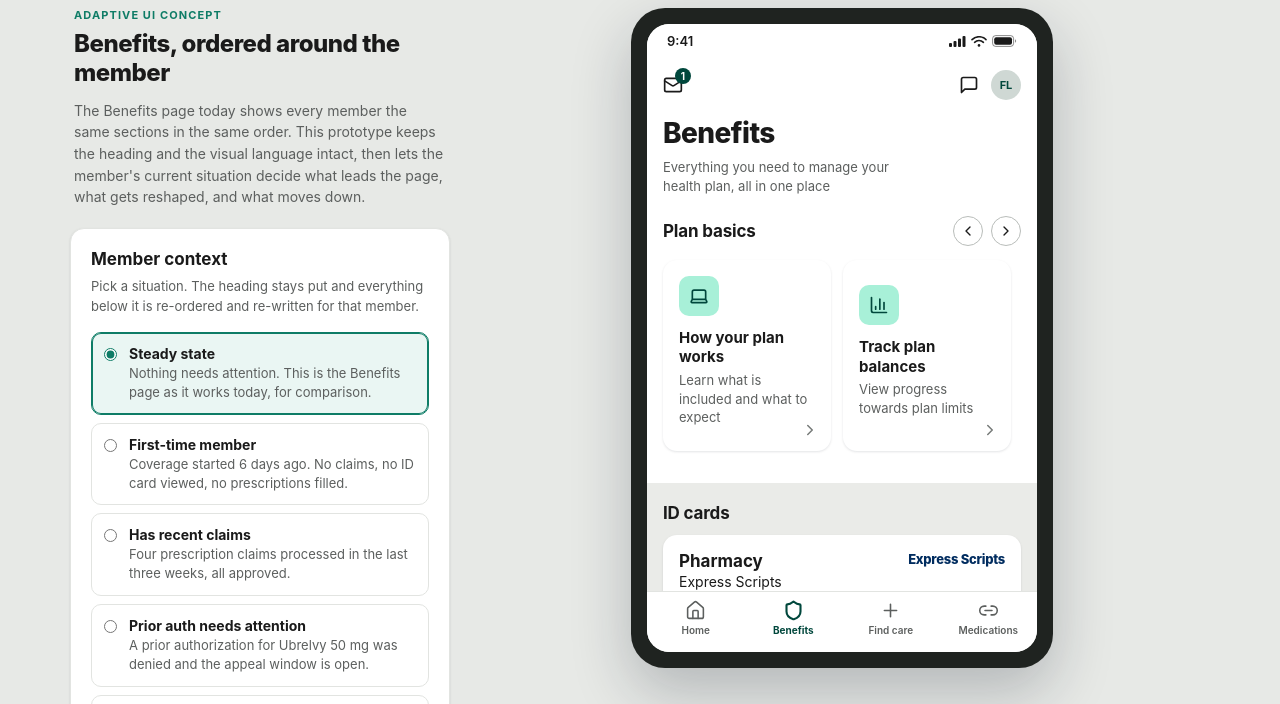
Test: sub-pages › shows the plan stages and the included-with-benefits panels
The width and height of the screenshot is (1280, 704).
Click the button "How your plan works": click(747, 355) left=663, top=260, right=831, bottom=451
(page scrolled)
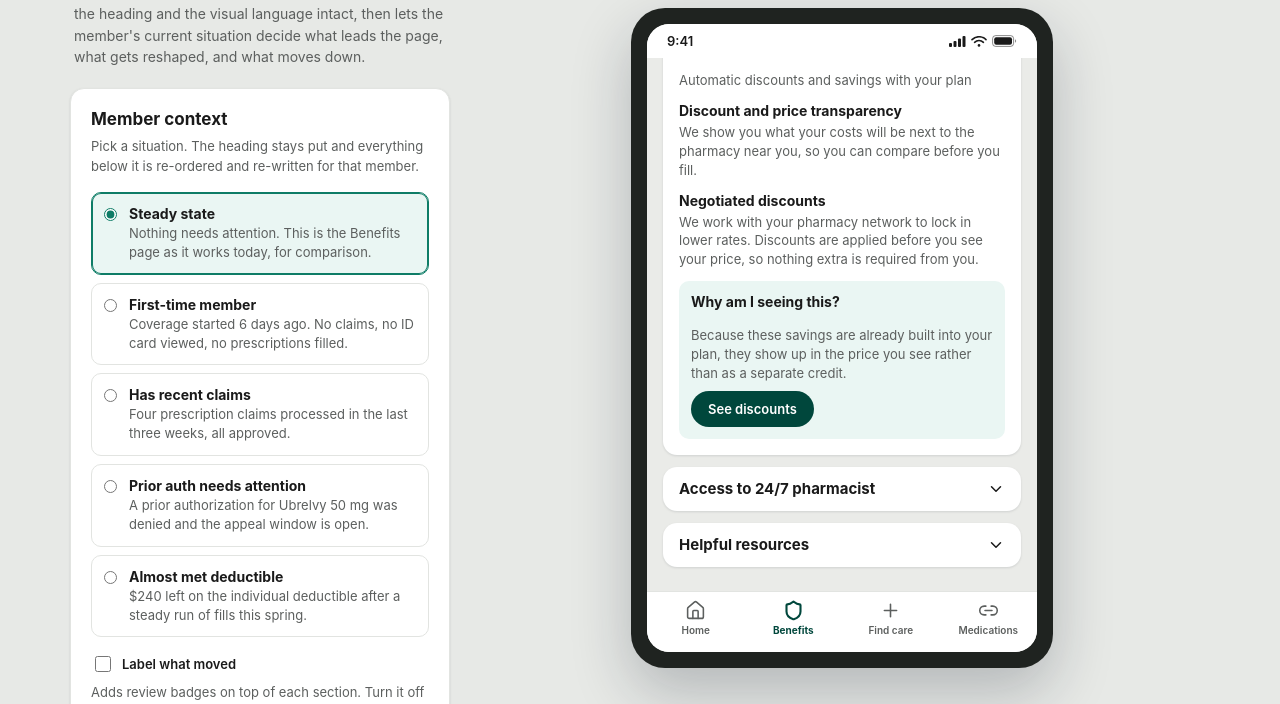
Now the button "Access to 24/7 pharmacist" is shown, box left=663, top=467, right=1021, bottom=511
